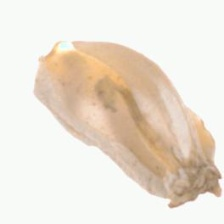L1: (163, 159, 222, 208), (31, 41, 80, 99)
L2: (33, 41, 221, 206)
